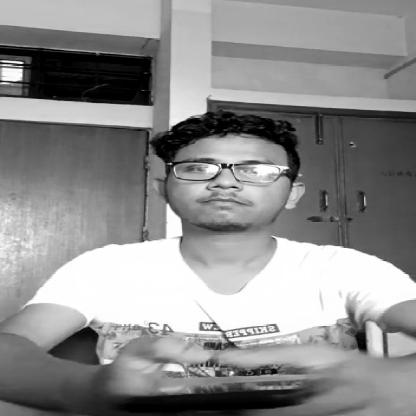Normal: (164, 124, 304, 242)
